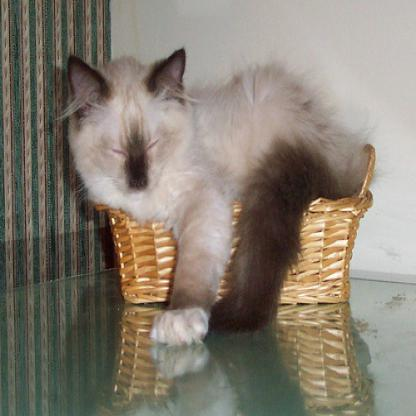cat: (67, 46, 368, 346)
